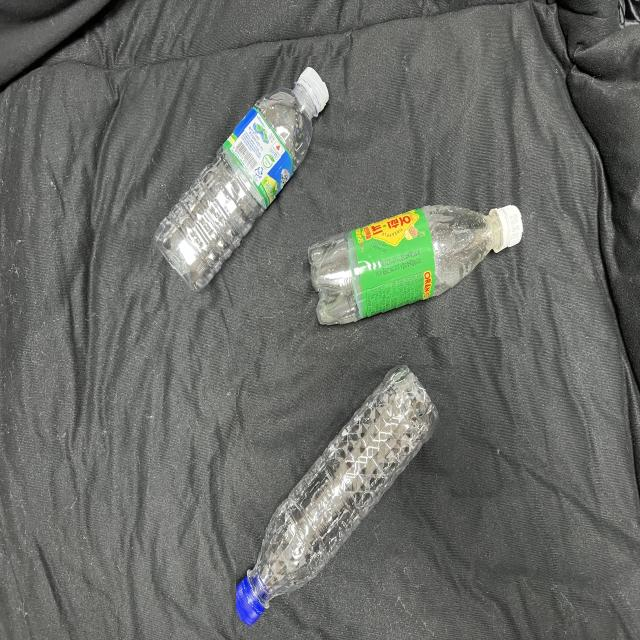plastic bottle: (236, 365, 457, 636), (138, 56, 344, 310), (303, 180, 535, 337)
